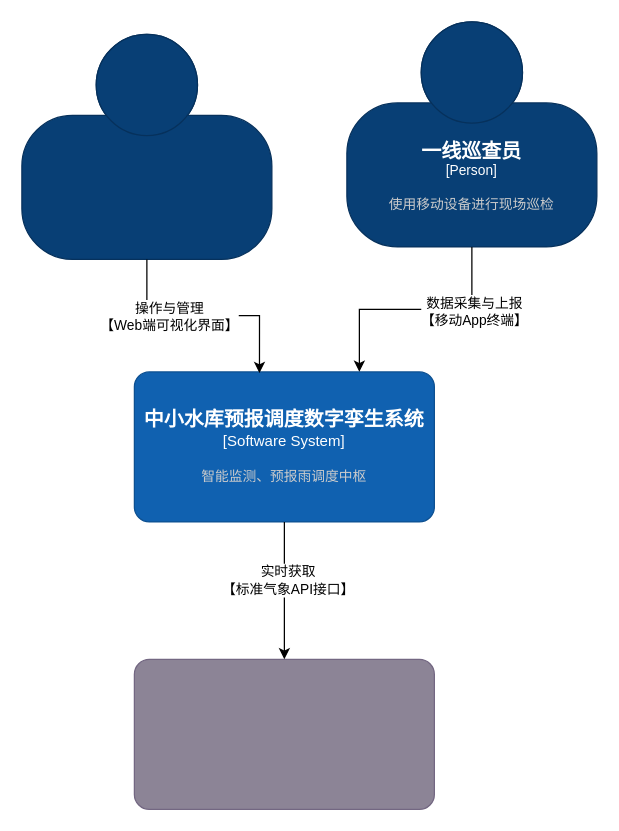
Image size: 619x831. Some labels were removed from this diagram. Here are the shapes that lost their labels. From the top down, the centre of each, then its label:
[146,146]: 水库管理者 [Person] 负责系统监控与调度决策
[283,733]: 气象预报系统 [Software System] 提供未来降雨预报数据支持
